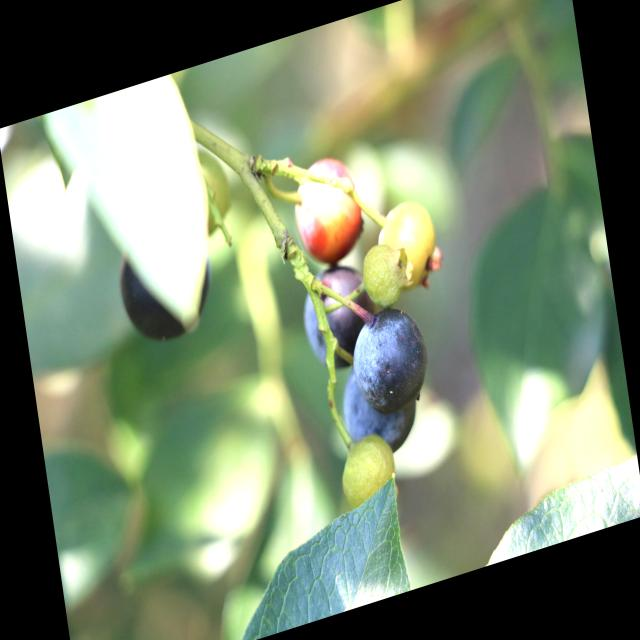blueberry: (108, 209, 222, 361), (288, 243, 392, 382), (345, 292, 437, 424), (334, 348, 427, 475)
blueberry-halfripe: (286, 146, 368, 274)
blueberry-unripe: (374, 191, 444, 308), (334, 421, 404, 516), (356, 234, 408, 319)
